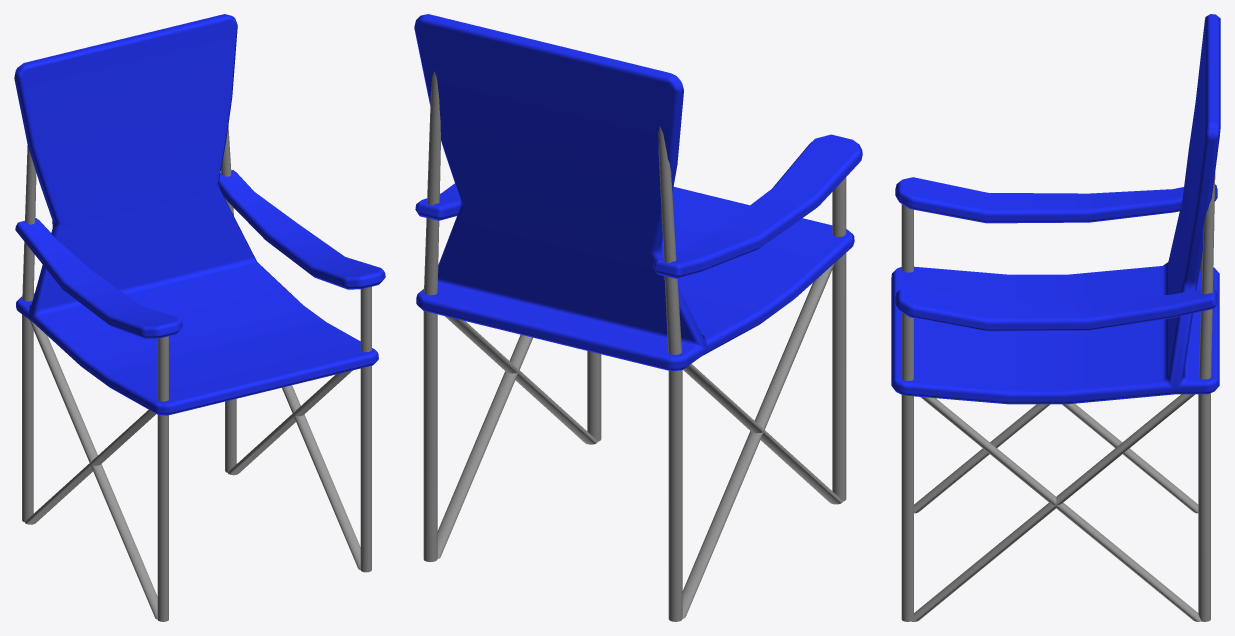
Rendered from Chair.fbx.
3 renders of one model, left to right at view 1: azimuth 30°, elevation 25°; view 2: azimuth 150°, elevation 25°; view 3: azimuth 270°, elevation 25°, orthographic. The views are drawn at different scales.
Parts seen in each view (by area): view 1: Chair, Chair legs, Chair arm rests; view 2: Chair, Chair legs, Chair arm rests; view 3: Chair, Chair legs, Chair arm rests.
Boxes of the visible parts, x1,y1,x2,y2 form: Chair: [14, 14, 378, 415]; Chair legs: [22, 125, 371, 621]; Chair arm rests: [15, 170, 385, 338]; Chair: [414, 14, 854, 371]; Chair legs: [423, 71, 846, 621]; Chair arm rests: [415, 134, 862, 278]; Chair: [891, 14, 1220, 404]; Chair legs: [901, 173, 1215, 621]; Chair arm rests: [895, 177, 1217, 331].
Size of the model in its own units: 61.35 by 109 by 65.12.
